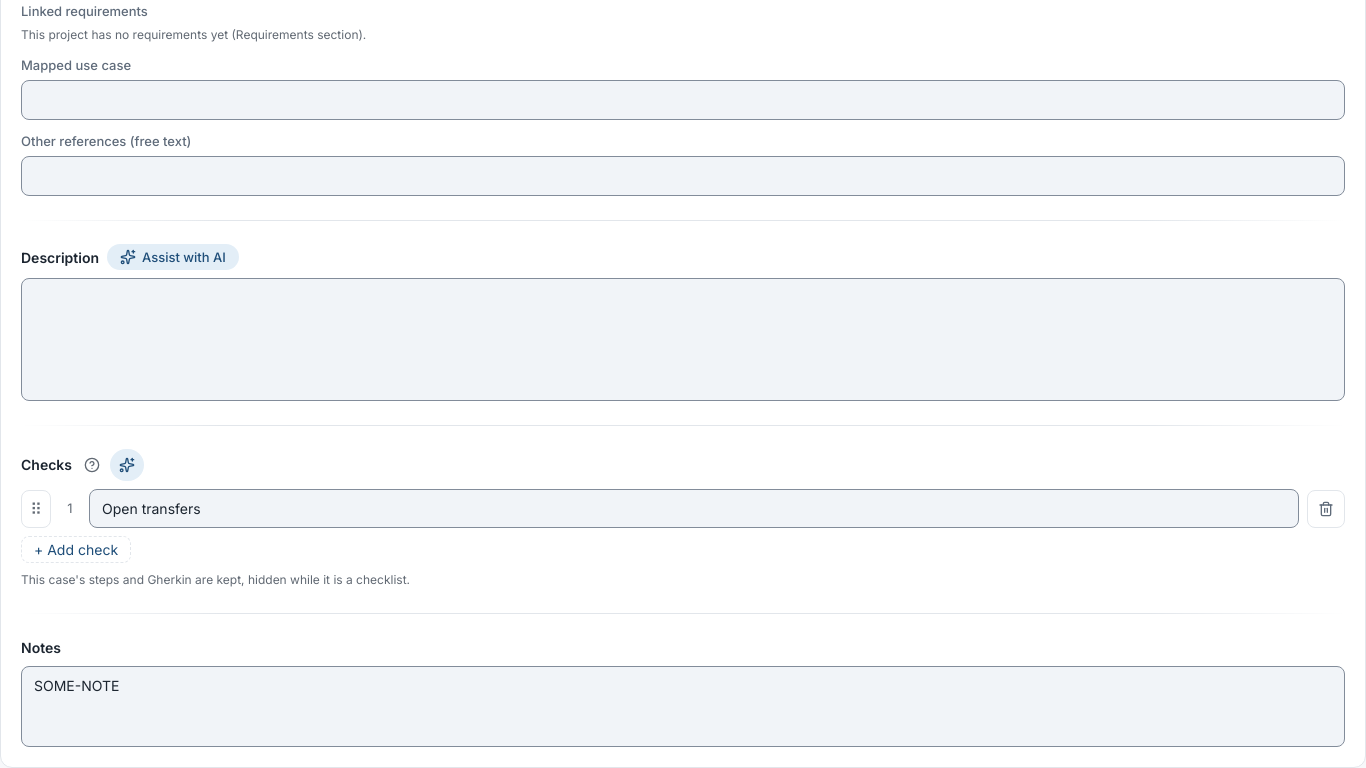
TestCaseEditor AI in flows and checklists (IA-16) › a checklist reviews its items from what it shows, and notes have no AI
(page scrolled)
Click the button named "Review checks" at (127, 465), box [110,449,144,481]
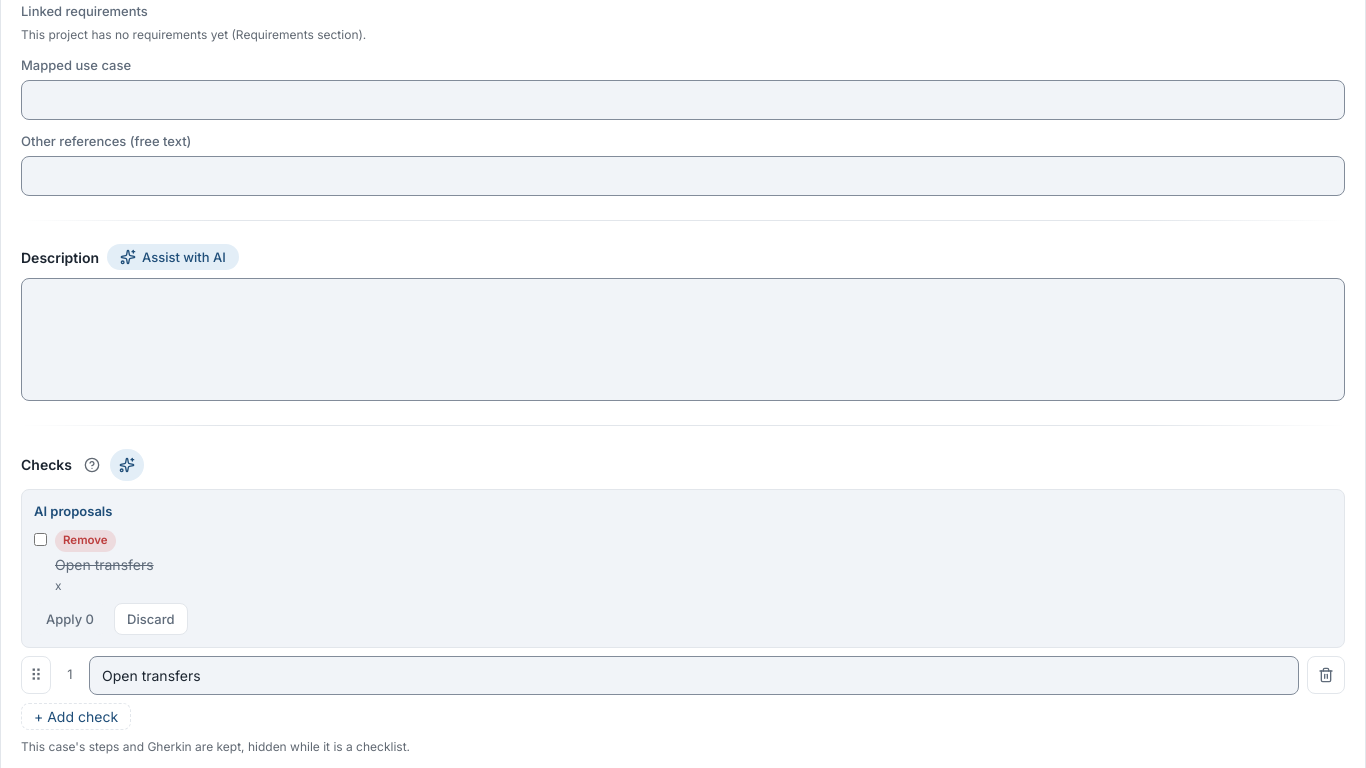
Expected: the number of buttons with class "assist__btn" is 2, [107,244,239,270]; [110,449,144,481]
Expected: the checkbox labelled "Remove Open transfers x" is shown, [34,532,47,546]
